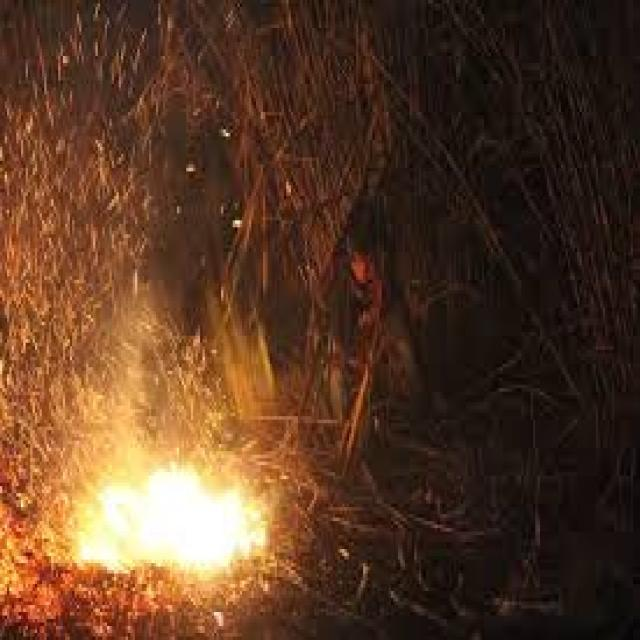fire: (78, 464, 264, 579)
